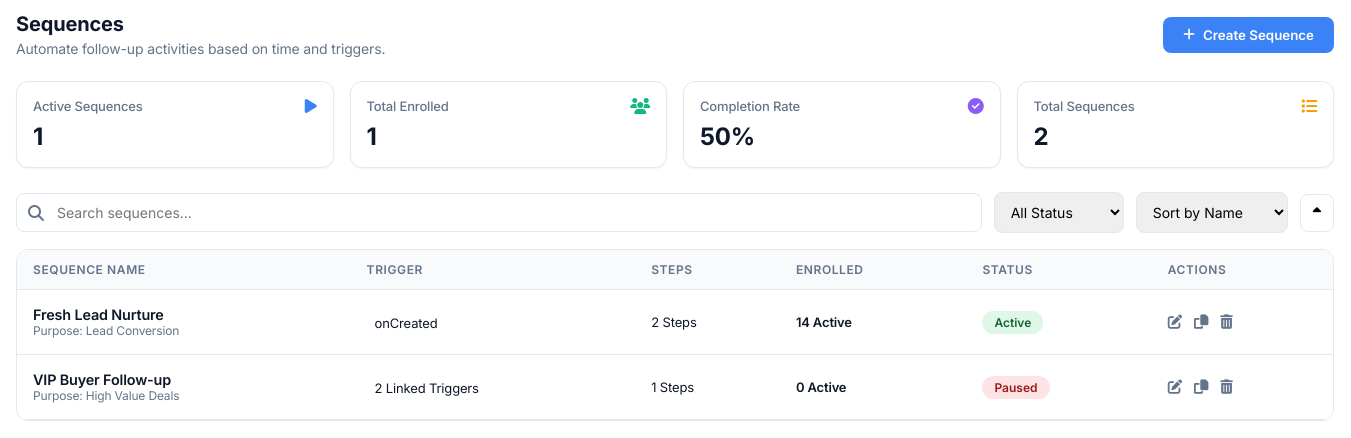
Test: SequencesSettingsPage with DataTable › filters sequences by status dropdown
Filter to active only
Select "Active Only" in the 1st dropdown showing "All Status" at (1059, 212), box [994,192,1124,233]
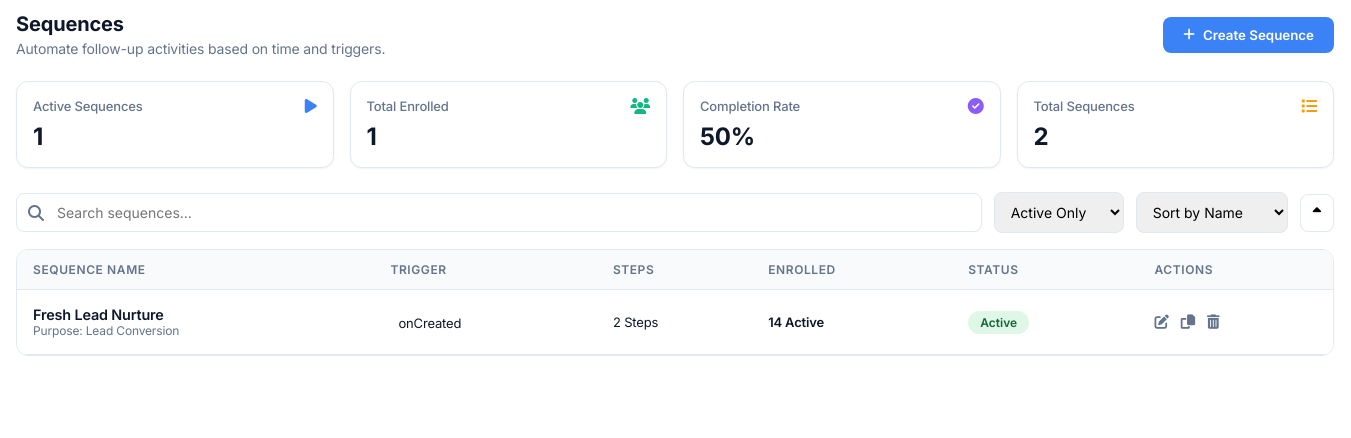
Expected: the text "Fresh Lead Nurture" is shown, [33,306,164,323]
Now the text "VIP Buyer Follow-up" is gone
Filter to paused only
Select "Paused Only" in the 1st dropdown showing "All Status" at (1059, 212), box [994,192,1124,233]
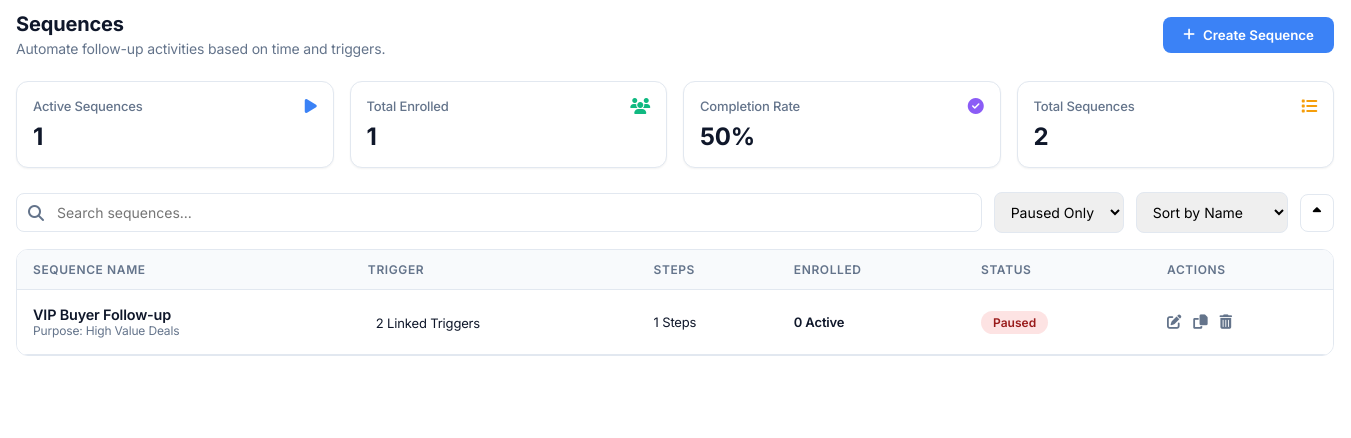
Now the text "Fresh Lead Nurture" is gone
Now the text "VIP Buyer Follow-up" is shown, box [33,306,171,323]
